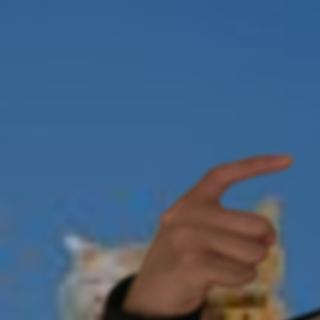WHY: (124, 136, 302, 314)
